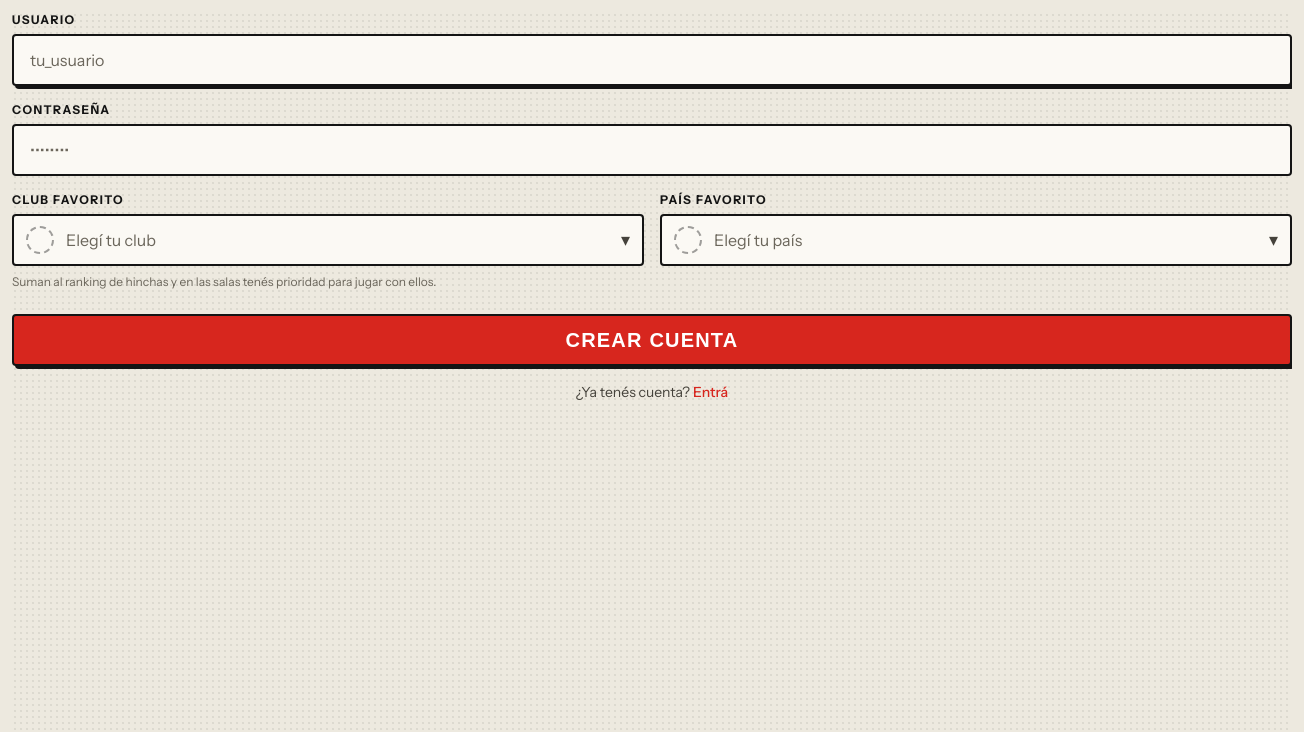
Scenario: RegisterForm › usuario tomado: avisa, marca el input inválido y deshabilita el submit
Step 1. Type "chese890" into the field labelled "Usuario" → (652, 60), box [12,34,1292,86]
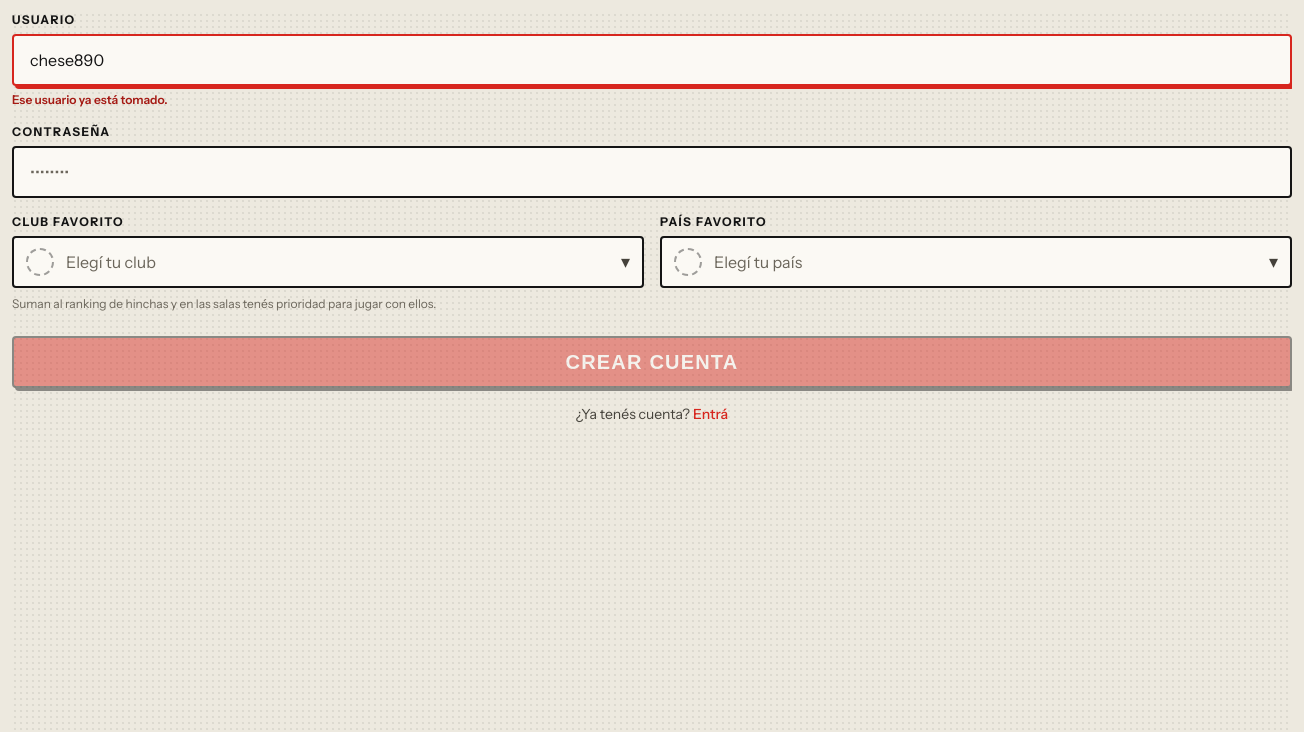
Expected: the text "Ese usuario ya está tomado." is shown, [12,92,168,107]
Expected: the button "Crear cuenta" is disabled, [12,336,1292,388]
